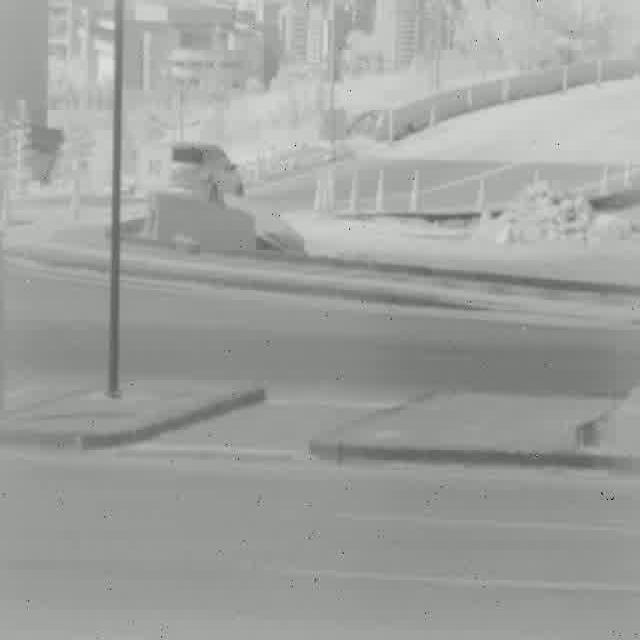Car: (158, 140, 248, 210)
